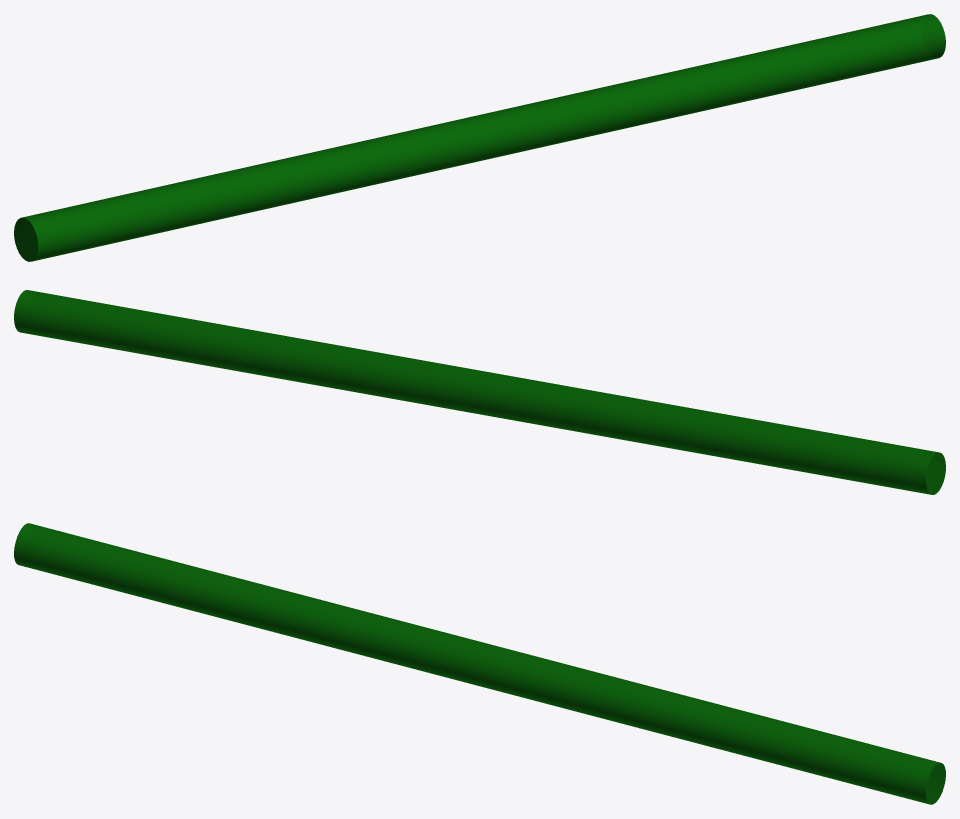
Rendered from Event_421278790_jet_1.fbx.
3 views of the same model, one above another, from view 1: azimuth 30°, elevation 25°; view 2: azimuth 150°, elevation 25°; view 3: azimuth 330°, elevation 25° (orthographic). The views are drawn at different scales.
Visible parts, largest first — view 1: Model; view 2: Model; view 3: Model.
Part boxes in pixels (left/top/right/bottom): Model: left=14, top=14, right=945, bottom=261; Model: left=14, top=290, right=945, bottom=494; Model: left=14, top=523, right=945, bottom=804.
Bounding box in the file's own units: 0.9528 × 0.0793 × 0.0806.
